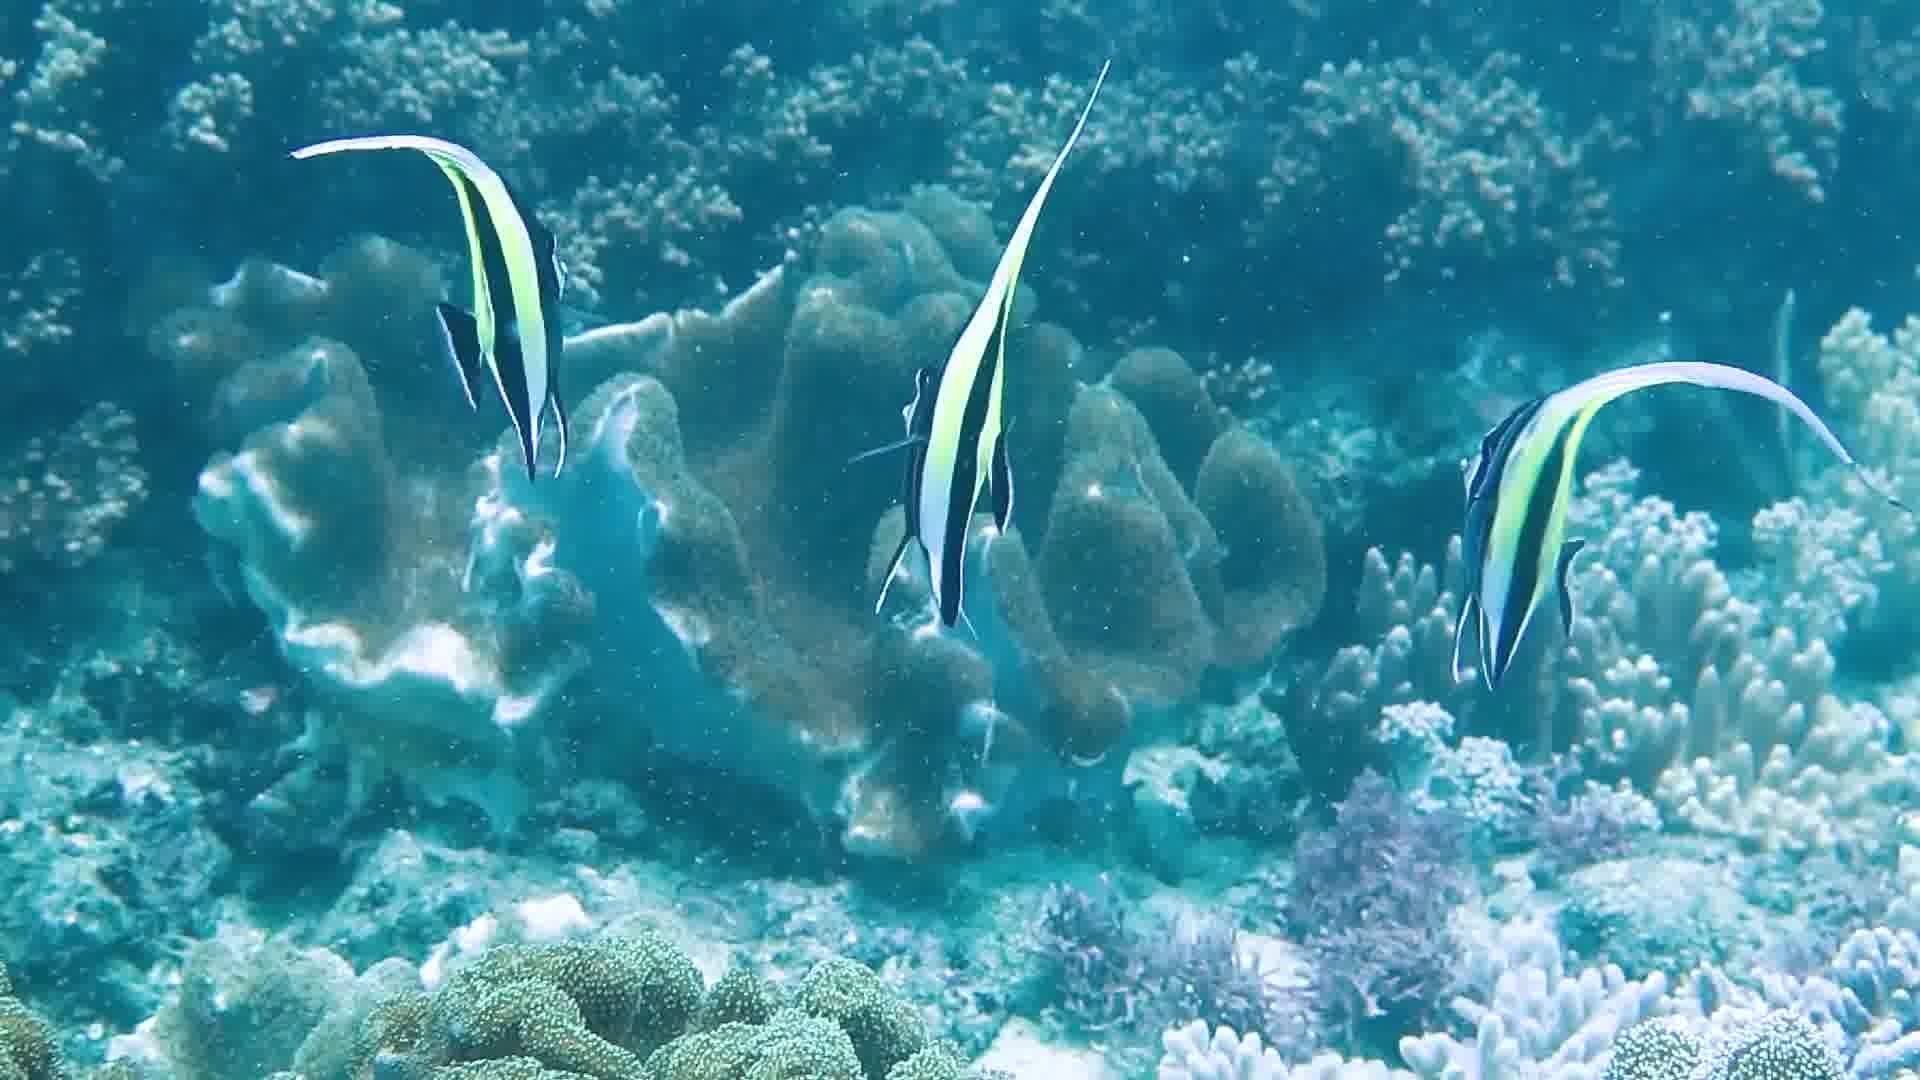Zanclus cornutus: (371, 88, 624, 468), (1415, 315, 1636, 715), (840, 219, 1040, 615)
